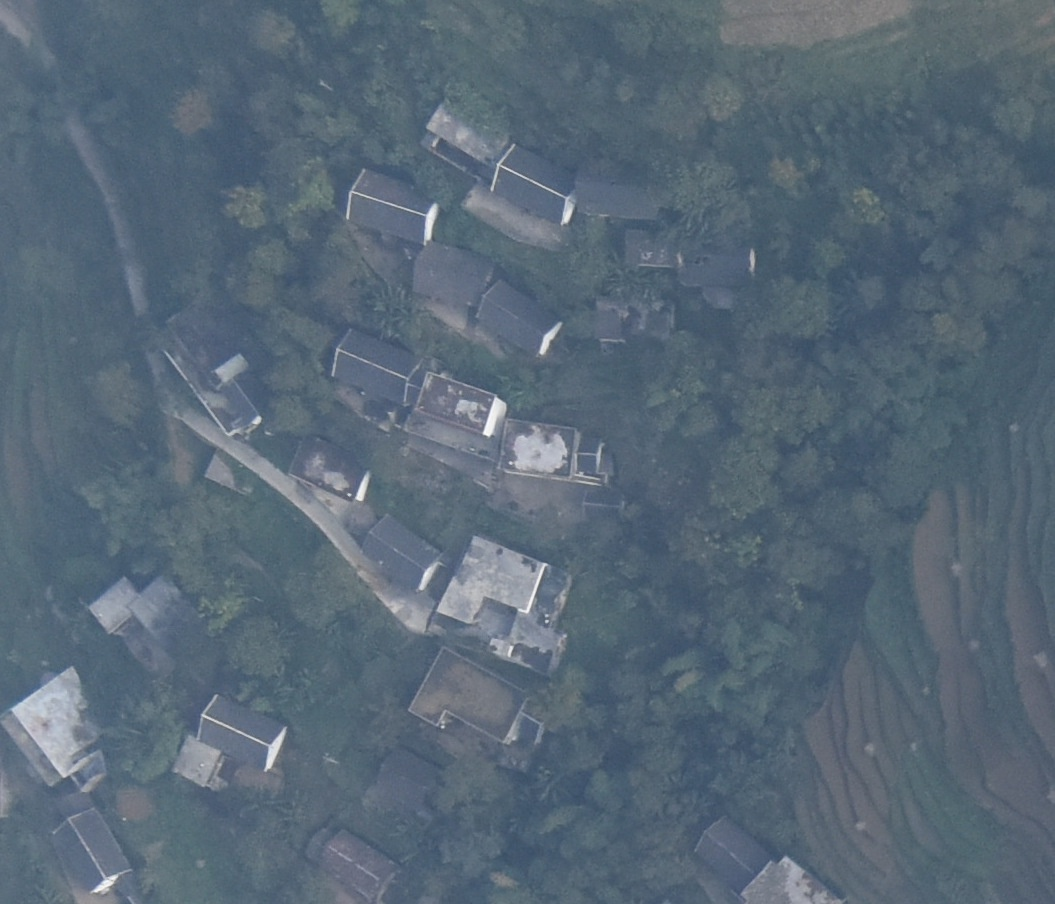building: (154, 310, 261, 436), (4, 667, 117, 785), (408, 648, 529, 744), (438, 537, 546, 624), (46, 794, 135, 894), (497, 418, 612, 484), (489, 145, 579, 227), (345, 169, 441, 242), (197, 693, 288, 768), (332, 331, 424, 405), (476, 280, 561, 356), (361, 514, 443, 592), (573, 157, 671, 222), (694, 815, 778, 890), (426, 96, 511, 167), (323, 831, 408, 901), (127, 573, 201, 652), (418, 371, 501, 437), (412, 242, 497, 305), (290, 434, 369, 501), (742, 856, 845, 903), (377, 751, 459, 810), (676, 241, 757, 289), (88, 578, 144, 636), (173, 737, 225, 790), (625, 228, 684, 271), (583, 489, 630, 520)
